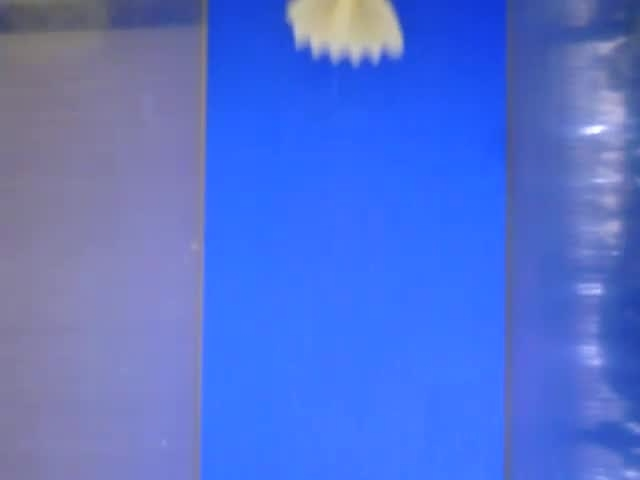farfalle: (280, 1, 407, 66)
